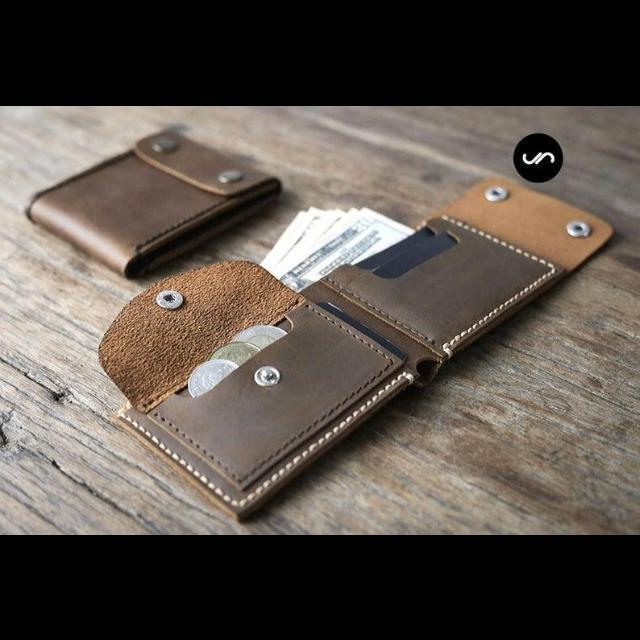wallet: (96, 173, 622, 523), (20, 126, 286, 280)
